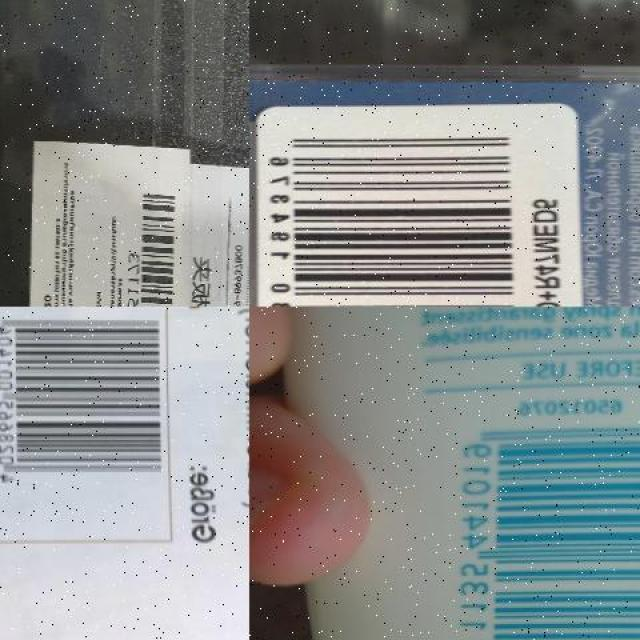Barcode: (258, 115, 530, 306), (433, 414, 639, 640), (0, 307, 168, 541), (124, 178, 185, 306)
